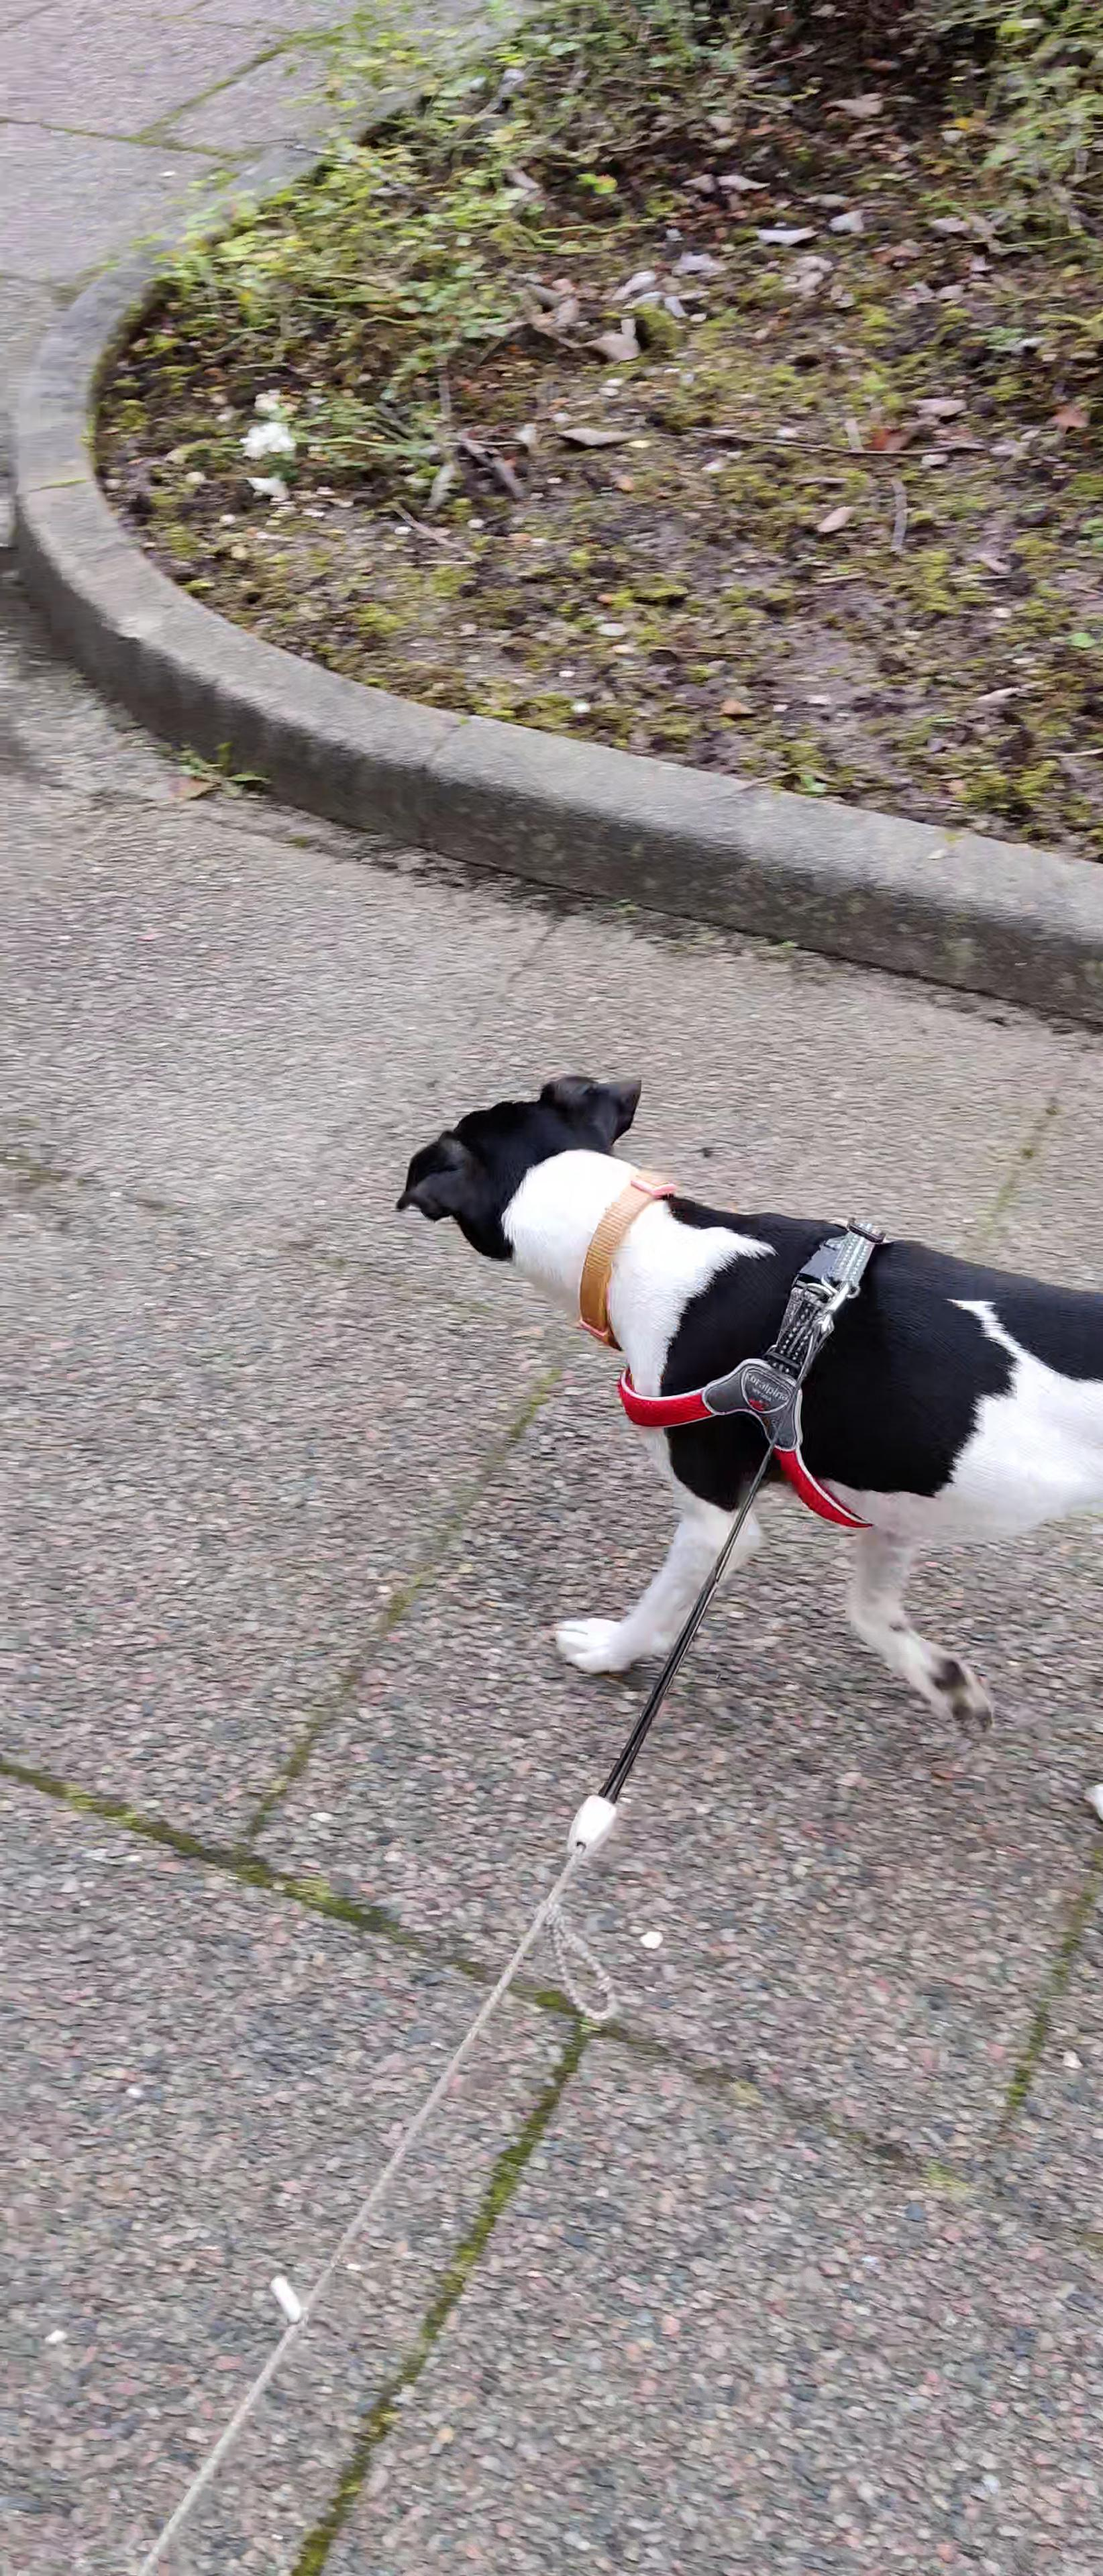Dog: (357, 1033, 1103, 1858)
